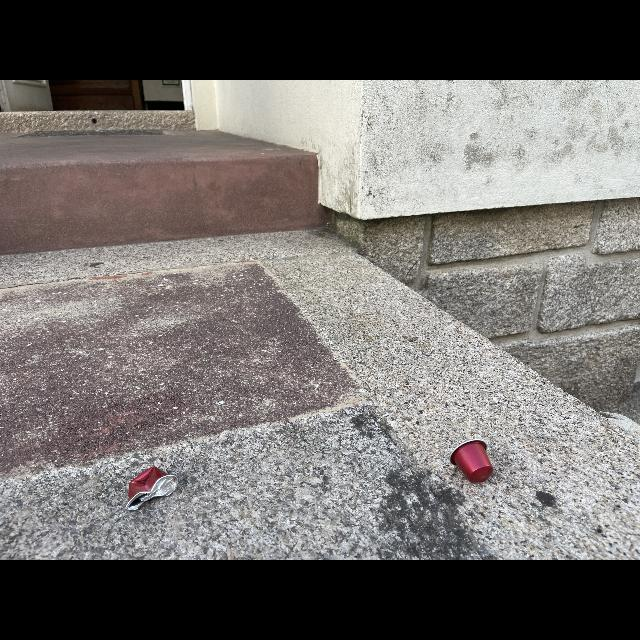damaged_capsule: (122, 454, 188, 518)
intact_capsule: (446, 431, 506, 487)
